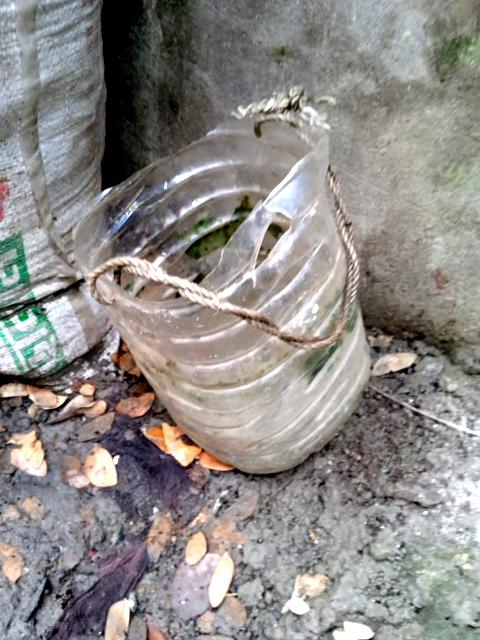bottle: (46, 79, 455, 491)
